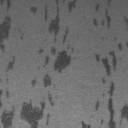red iron: (0, 0, 76, 128), (94, 42, 128, 128), (0, 0, 12, 52), (94, 3, 110, 29), (6, 56, 16, 71), (82, 121, 91, 128)
